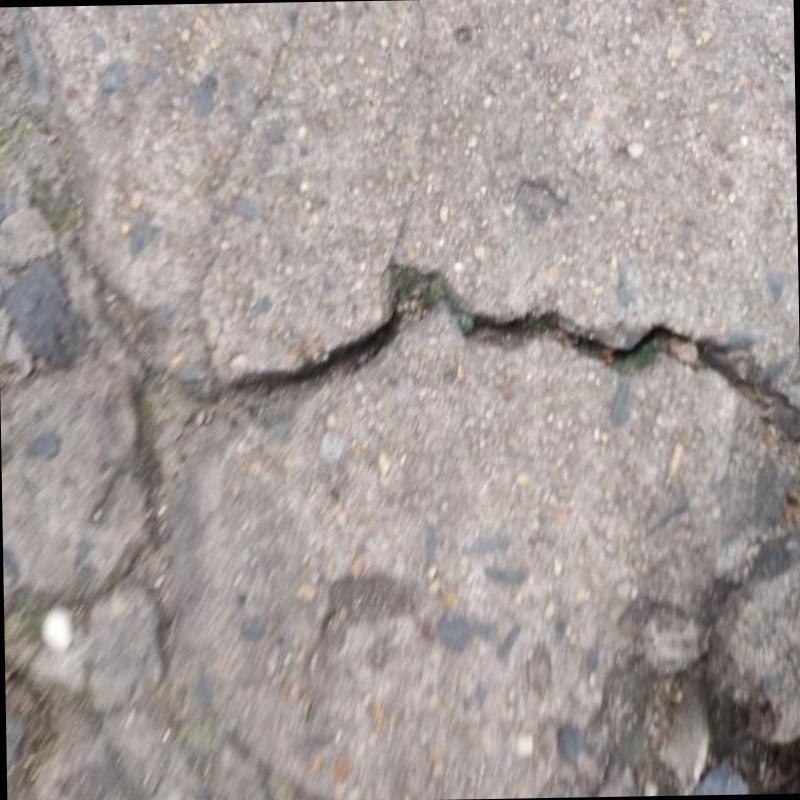pothole: (186, 261, 800, 442)
